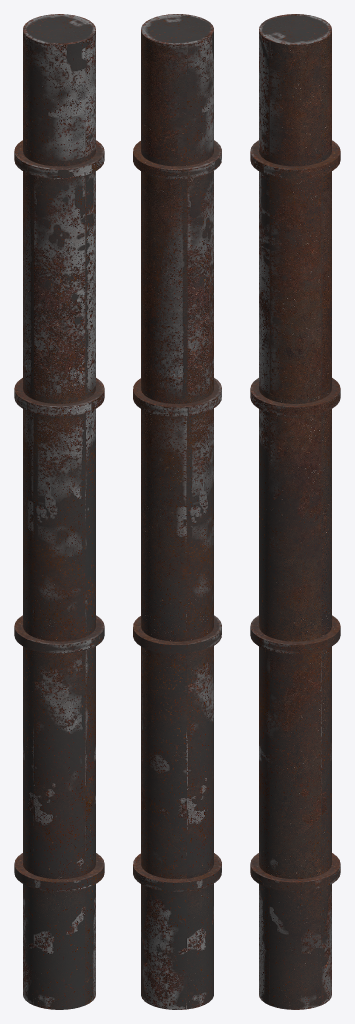
The model's file is PipeStraight.fbx.
The picture shows the model from 3 angles, left to right: view 1: azimuth 90°, elevation 25°; view 2: azimuth 150°, elevation 25°; view 3: azimuth 270°, elevation 25°; orthographic projection.
Parts seen in each view (by area): view 1: Cylinder.003; view 2: Cylinder.003; view 3: Cylinder.003.
Boxes of the visible parts, left/top/right/bottom form: Cylinder.003: left=14, top=14, right=104, bottom=1009; Cylinder.003: left=133, top=14, right=221, bottom=1009; Cylinder.003: left=250, top=14, right=340, bottom=1009.
Size of the model in its own units: 7.84 by 94.19 by 7.98.
1 material, 1 textured.
